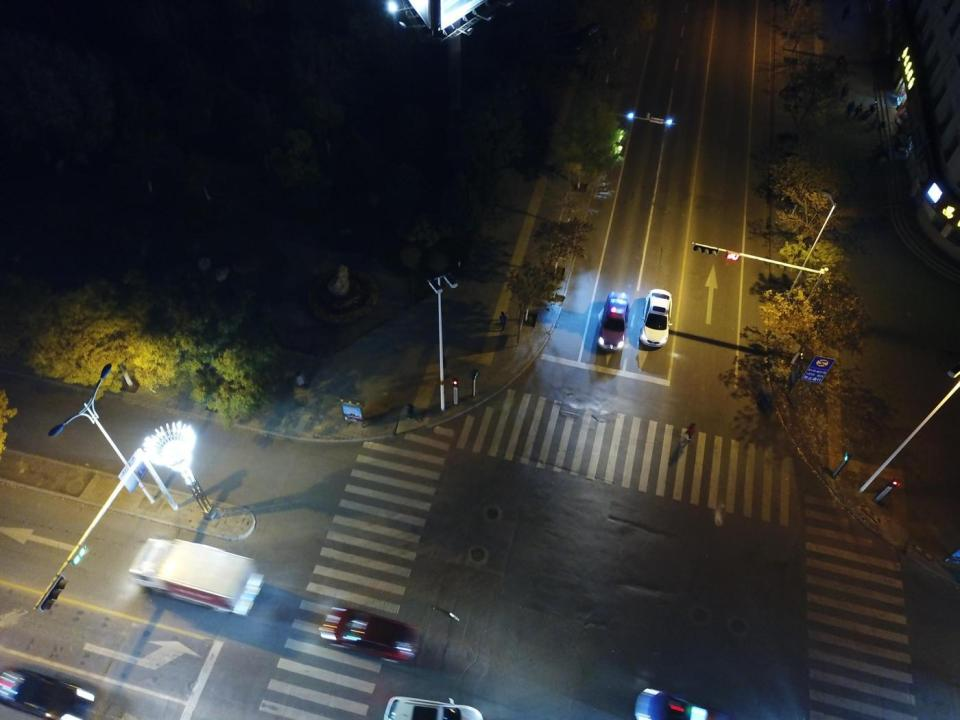car: (320, 605, 420, 664), (0, 668, 97, 720), (632, 685, 730, 720), (382, 694, 482, 720), (640, 288, 672, 350), (596, 292, 629, 352), (566, 24, 608, 50)
truck: (127, 538, 262, 615)
